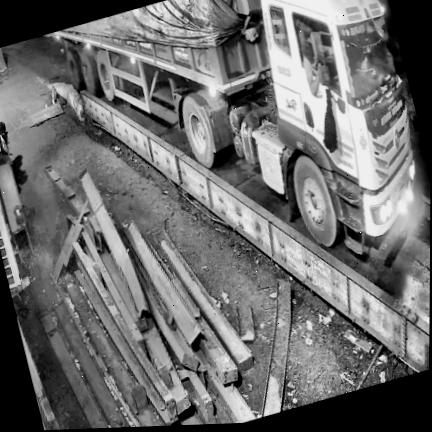tyre: (294, 156, 341, 247), (183, 94, 215, 168), (65, 42, 85, 91), (80, 49, 100, 95), (97, 50, 115, 100)
